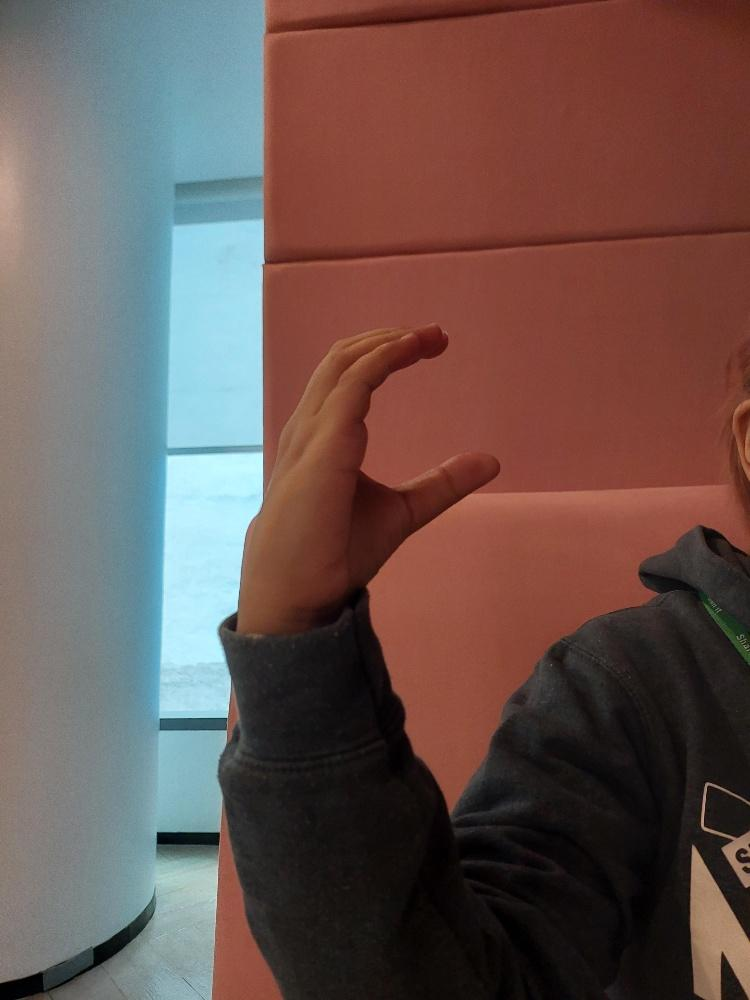c: (235, 315, 509, 615)
